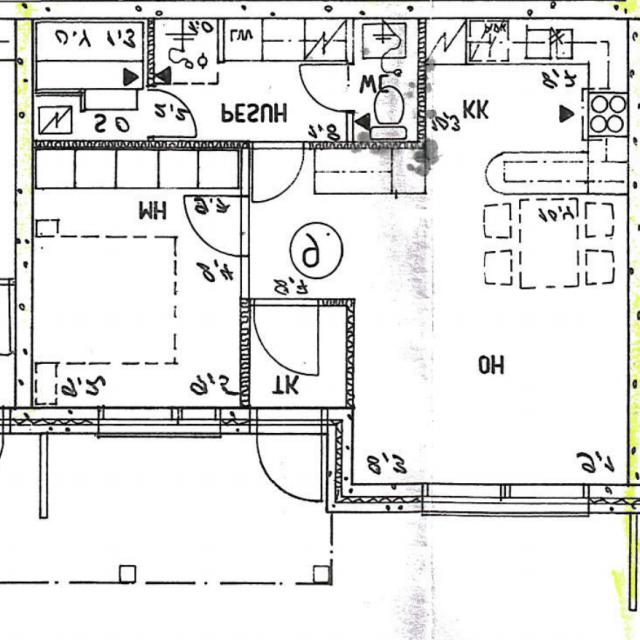door: (257, 407, 321, 501), (255, 298, 318, 371), (183, 197, 251, 256), (254, 140, 304, 200), (147, 90, 200, 136), (302, 64, 354, 110)
